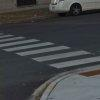Crosswalk: (5, 26, 90, 80)
